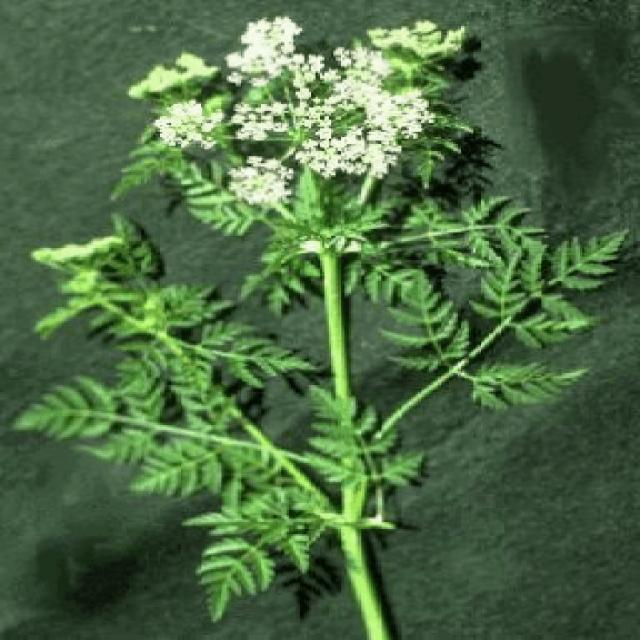Poisonous-Hemlock: (87, 13, 600, 640)
